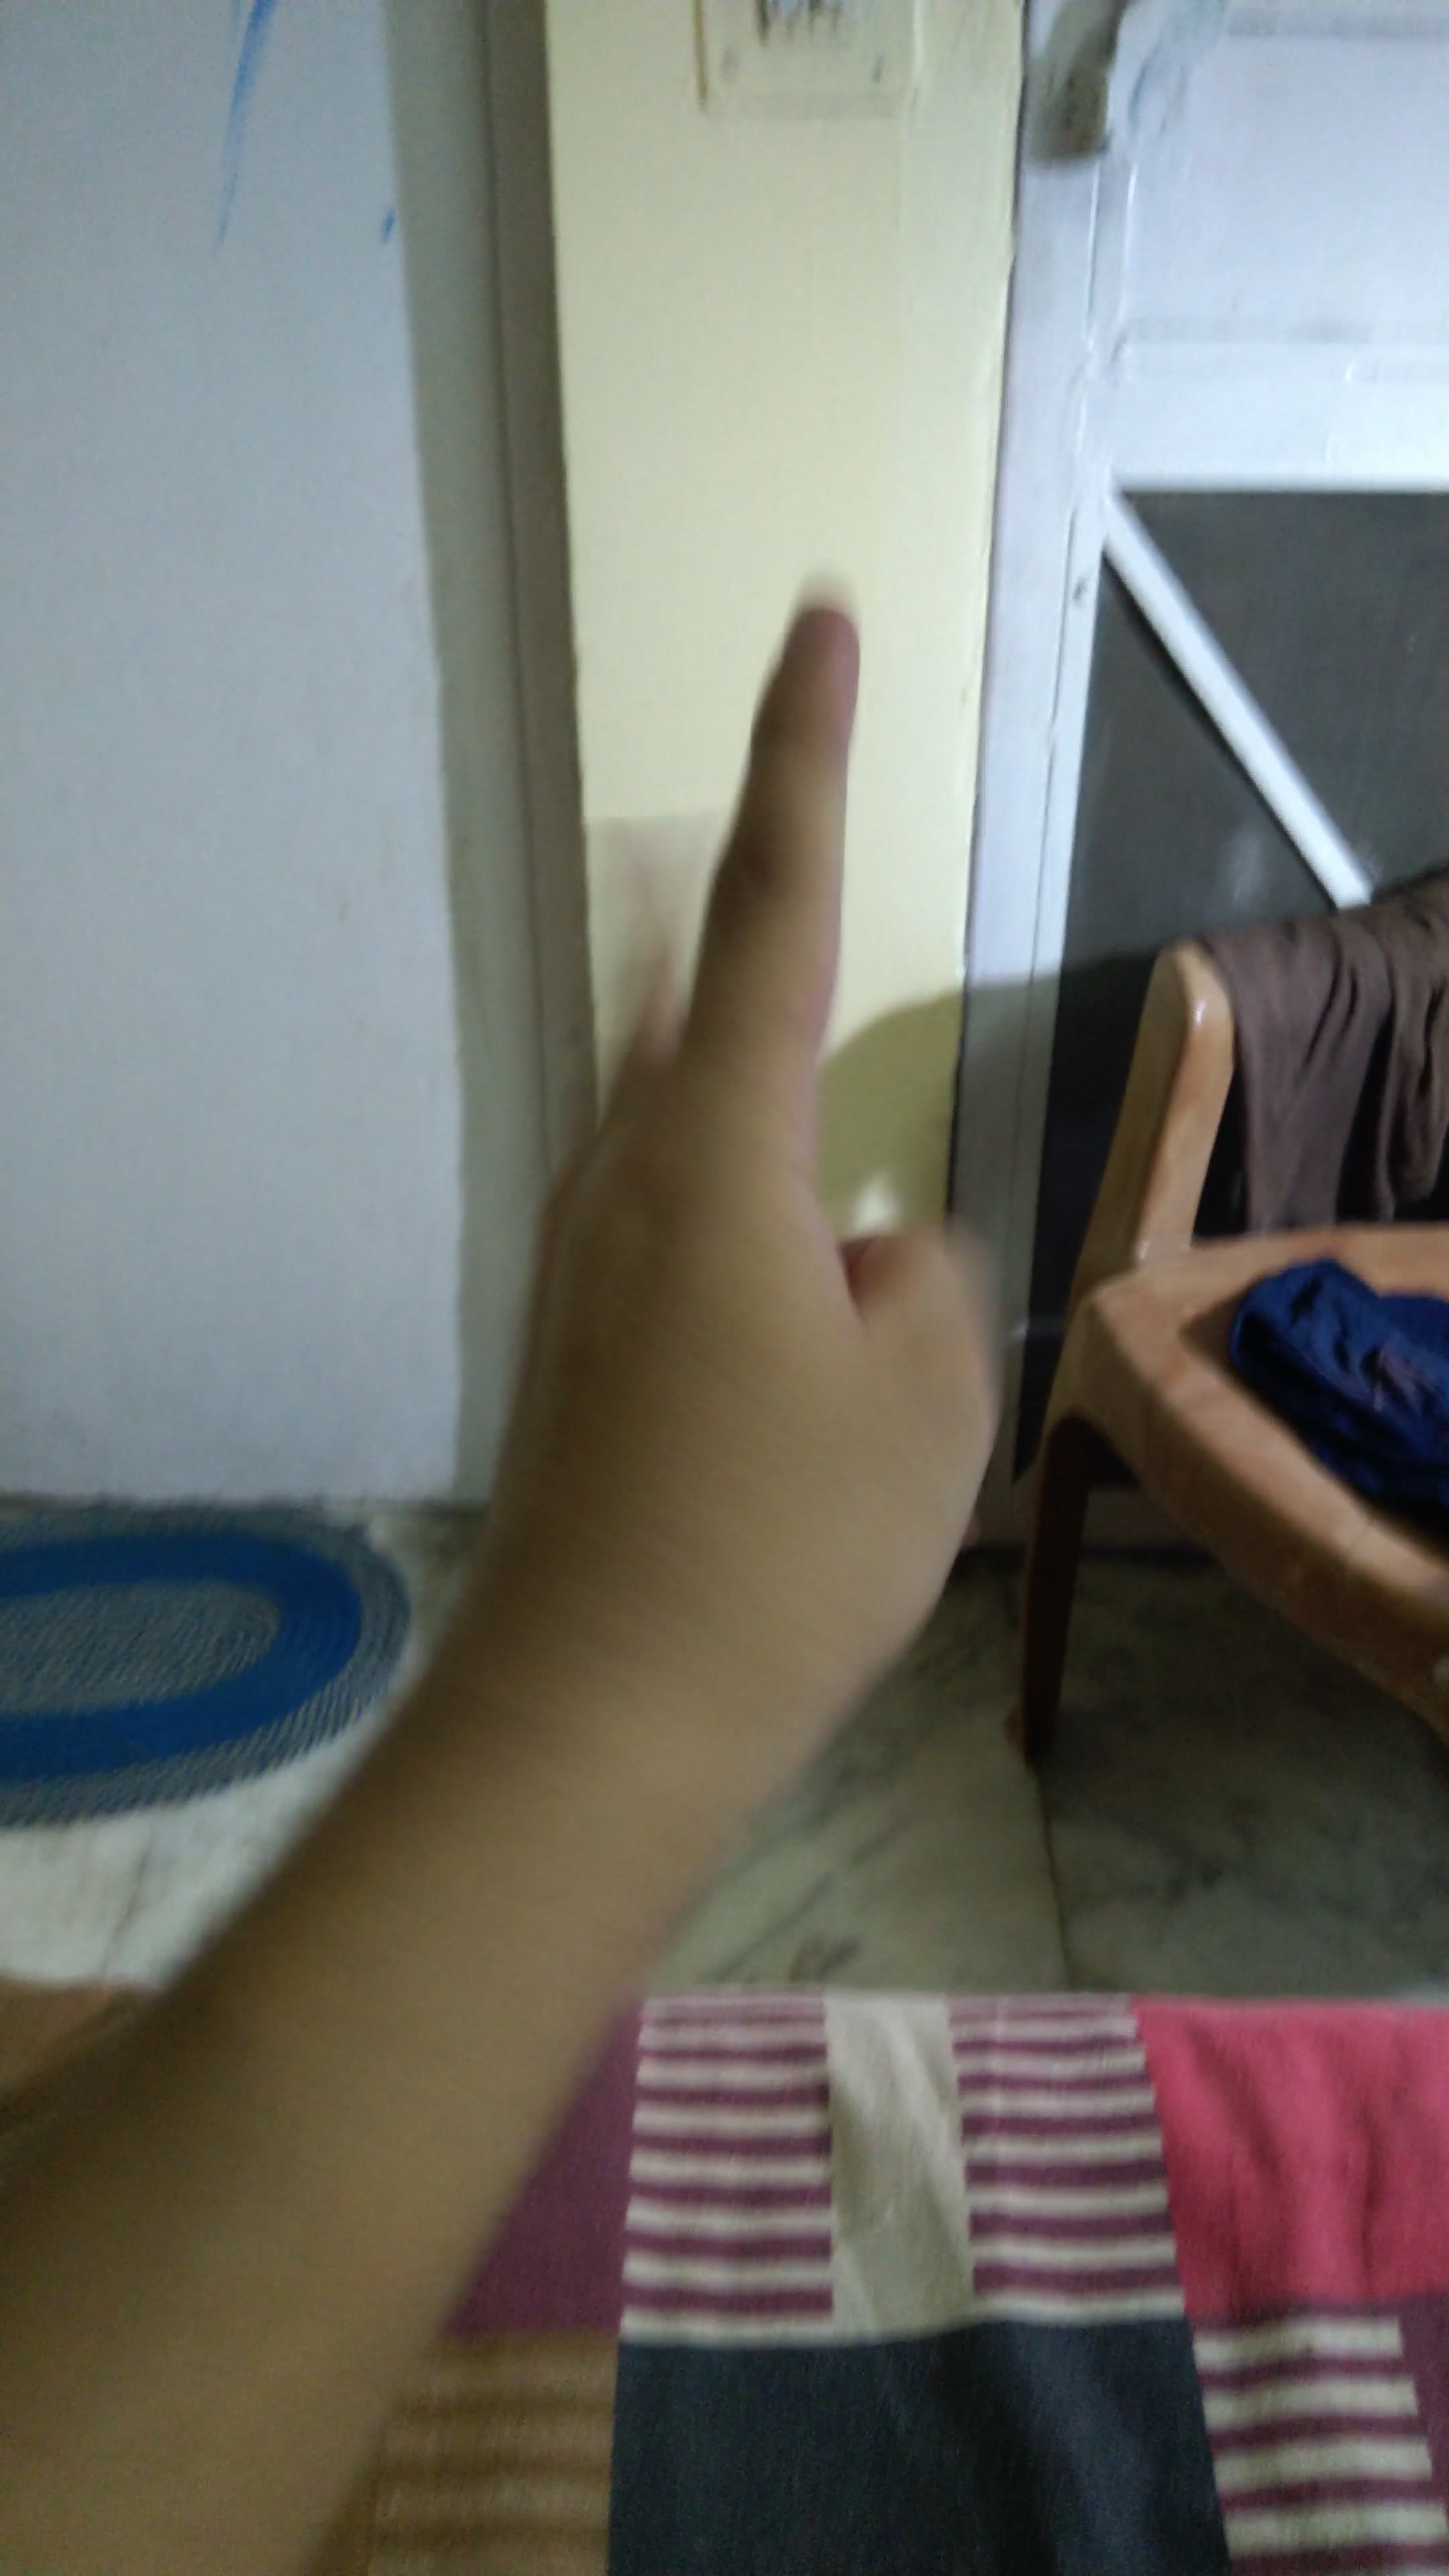hand: (384, 533, 1074, 1920)
